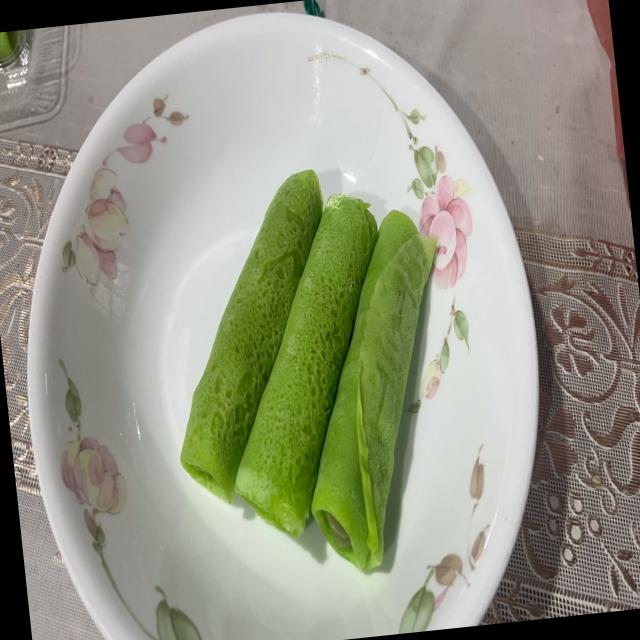Kuih-Ketayap: (235, 193, 378, 535), (180, 169, 323, 502), (311, 209, 436, 570)
